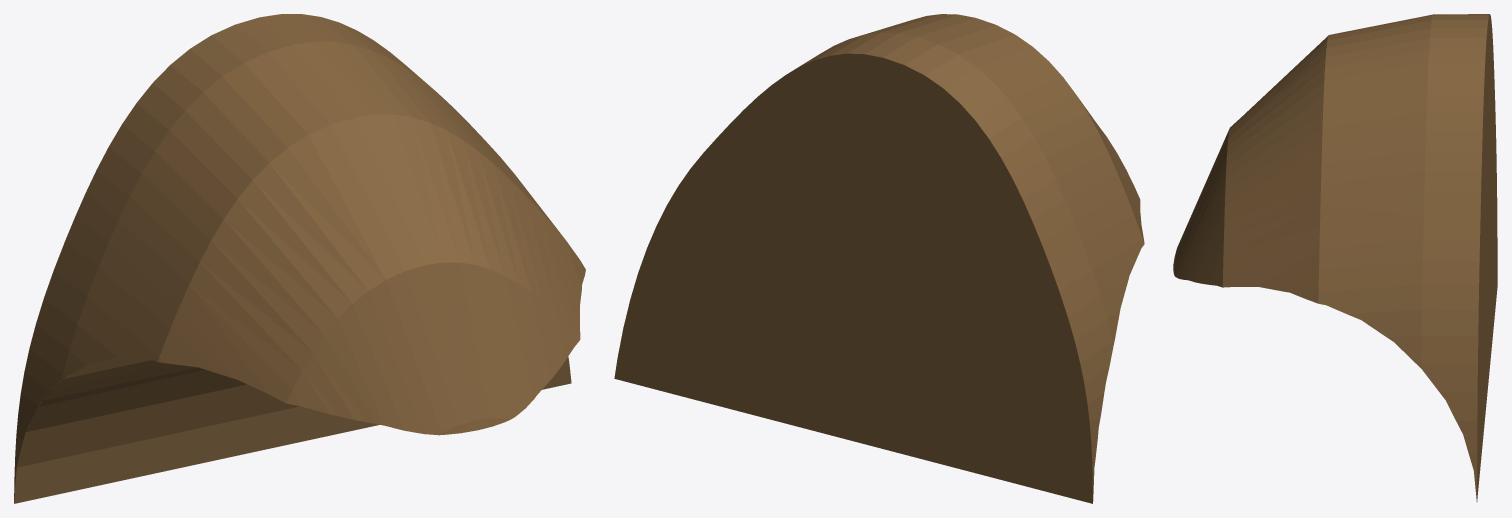
Rendered from RFx_joint_visu.dae.
The picture shows the model from 3 angles, left to right: view 1: azimuth 30°, elevation 25°; view 2: azimuth 150°, elevation 25°; view 3: azimuth 270°, elevation 25°; orthographic projection. The views are drawn at different scales.
Parts seen in each view (by area): view 1: node; view 2: node; view 3: node.
Boxes of the visible parts, bbox=[...] form: node: bbox=[14, 14, 585, 503]; node: bbox=[614, 14, 1144, 503]; node: bbox=[1173, 14, 1497, 501].
Size of the model in its own units: 0.0536 by 0.041 by 0.034.
